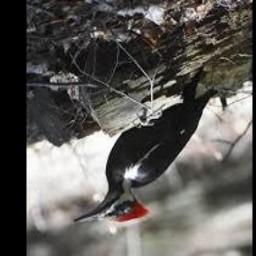Woodpecker: (74, 72, 217, 226)
